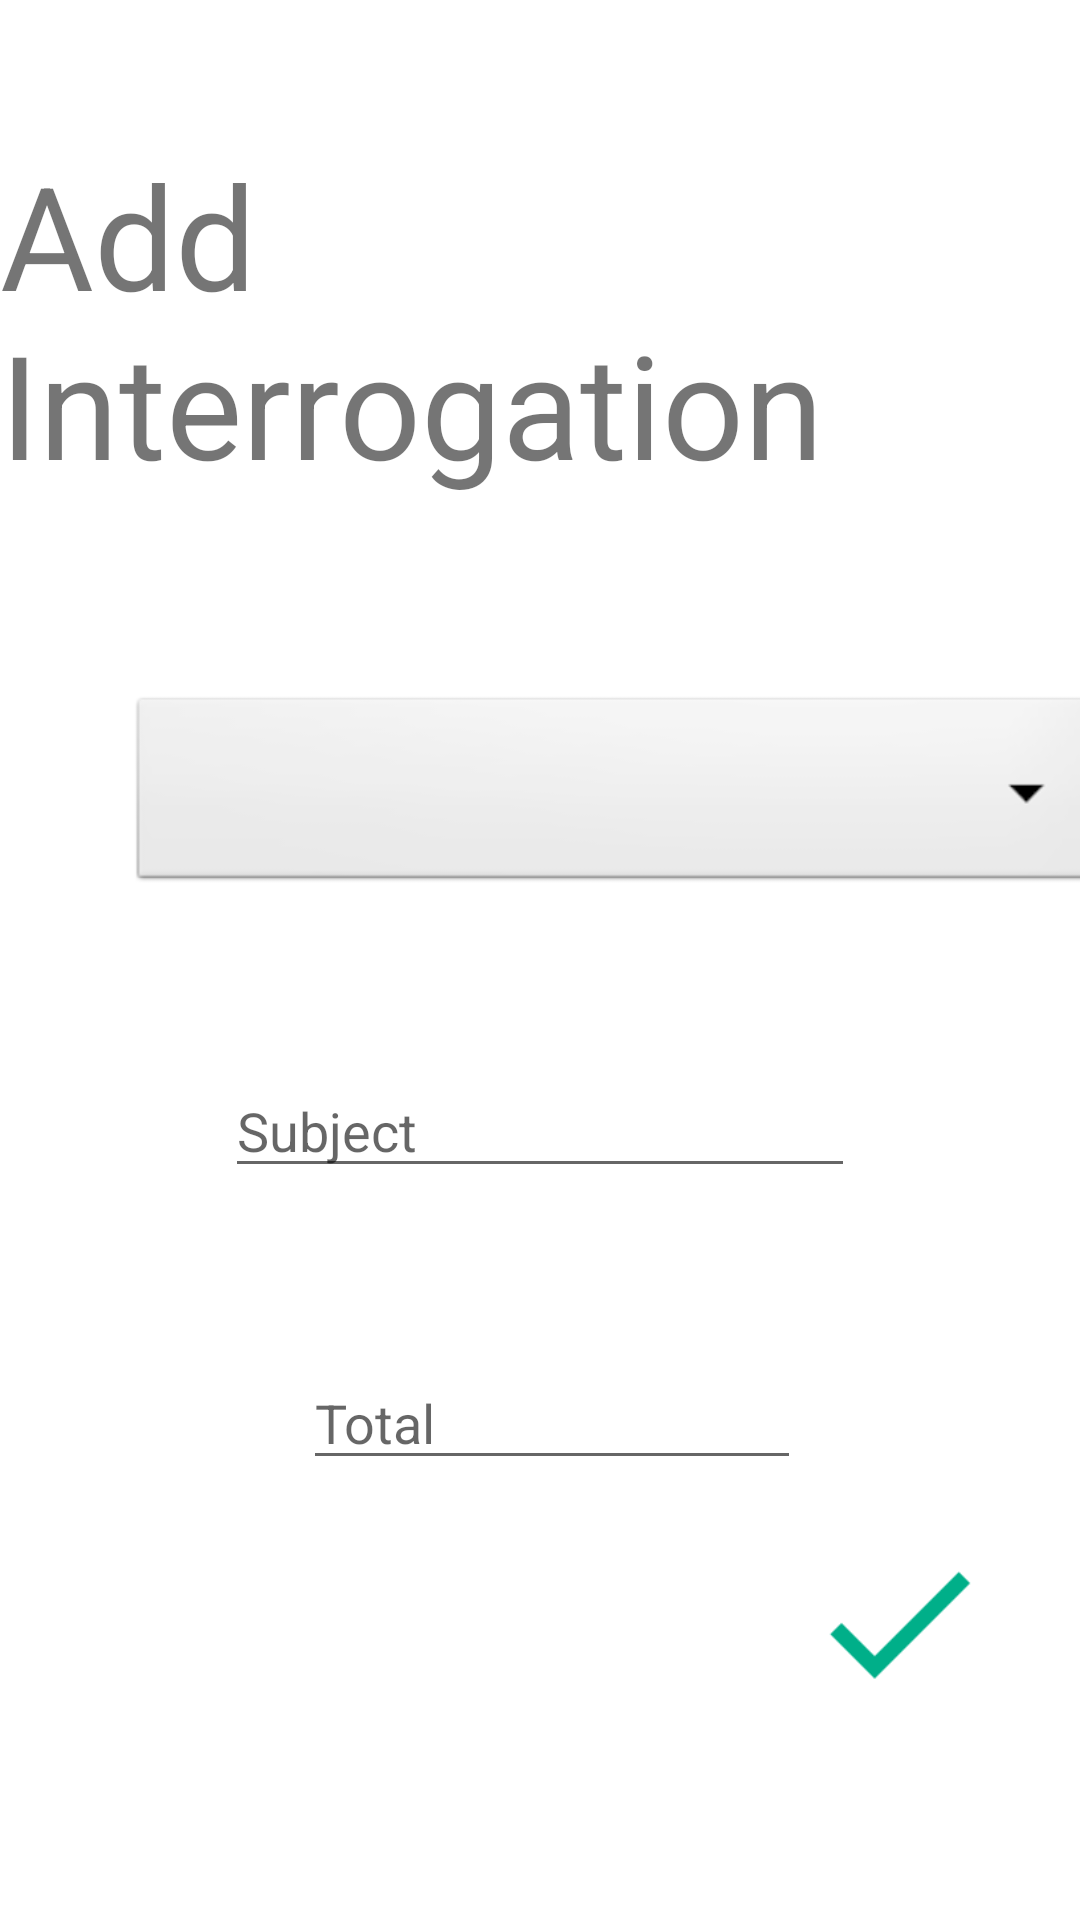

Named icons in this screenshot (1080×1920) and their bounding boxes, bbox(x1, y1, x2, y2):
validate: bbox(830, 1571, 970, 1679)
